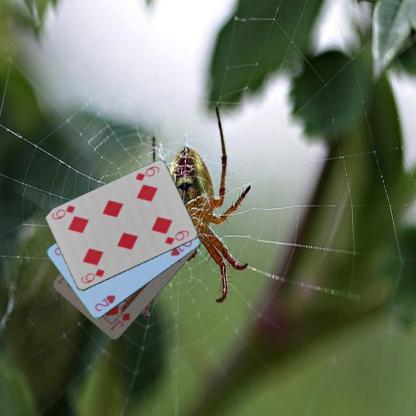2h: (92, 292, 117, 312)
6d: (78, 266, 106, 285), (133, 164, 161, 182)
Jd: (107, 310, 132, 332)
